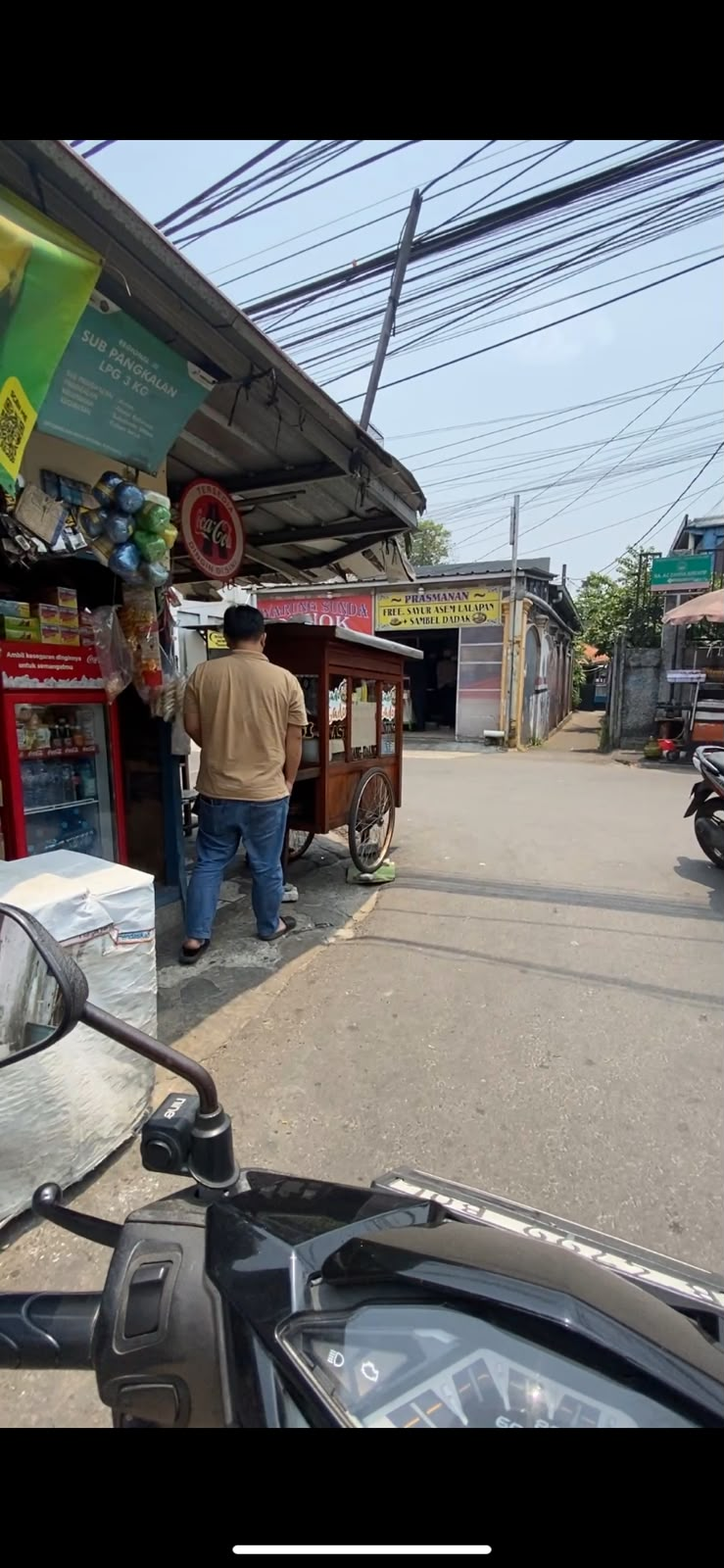gerobak: (267, 622, 414, 872), (667, 651, 723, 750), (664, 587, 723, 626)
